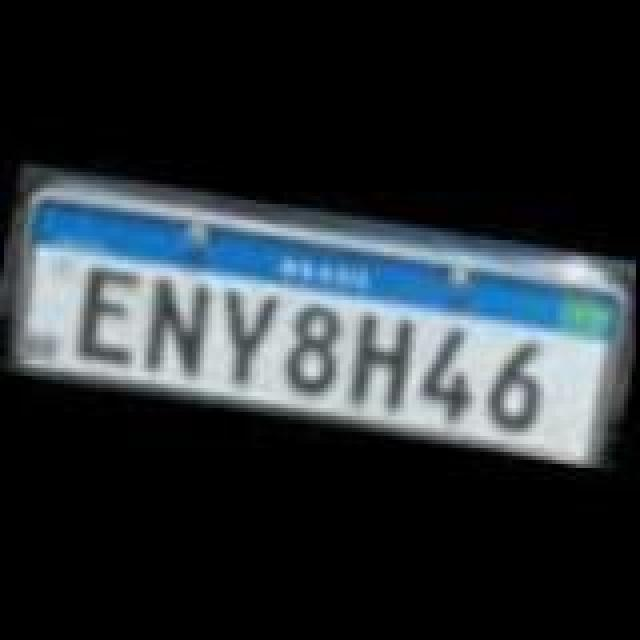4: (412, 316, 488, 424)
6: (486, 334, 558, 438)
8: (278, 294, 350, 402)
E: (70, 258, 146, 370)
H: (340, 306, 424, 418)
N: (136, 274, 216, 386)
Y: (208, 284, 280, 396)
